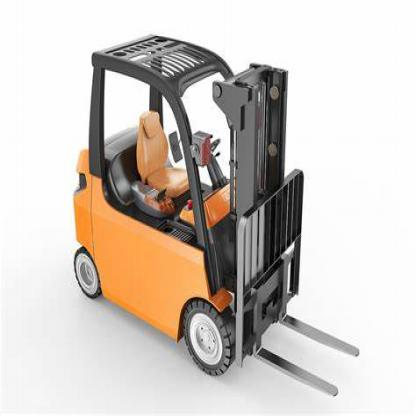forklift: (70, 31, 360, 396)
